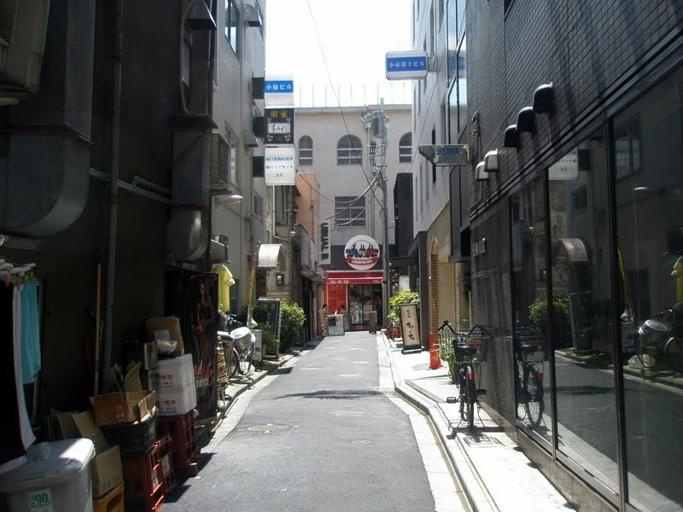non-vehicle: (434, 321, 490, 432), (633, 302, 681, 374), (514, 333, 547, 430), (217, 306, 255, 378)
